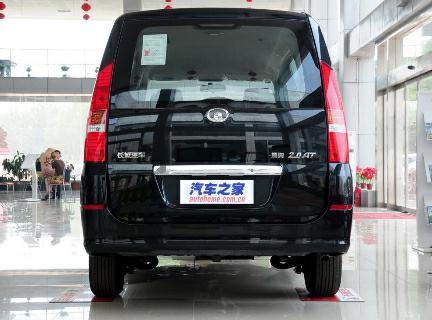长城-V80: (80, 4, 358, 308)
